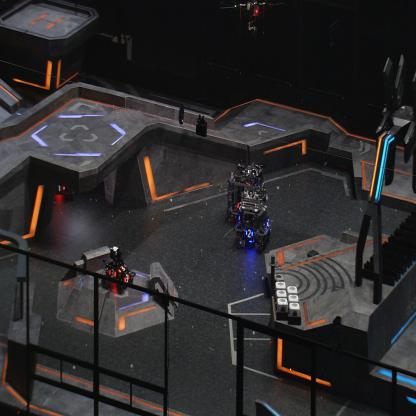car: (226, 160, 268, 224), (235, 186, 274, 252), (100, 245, 136, 296)
